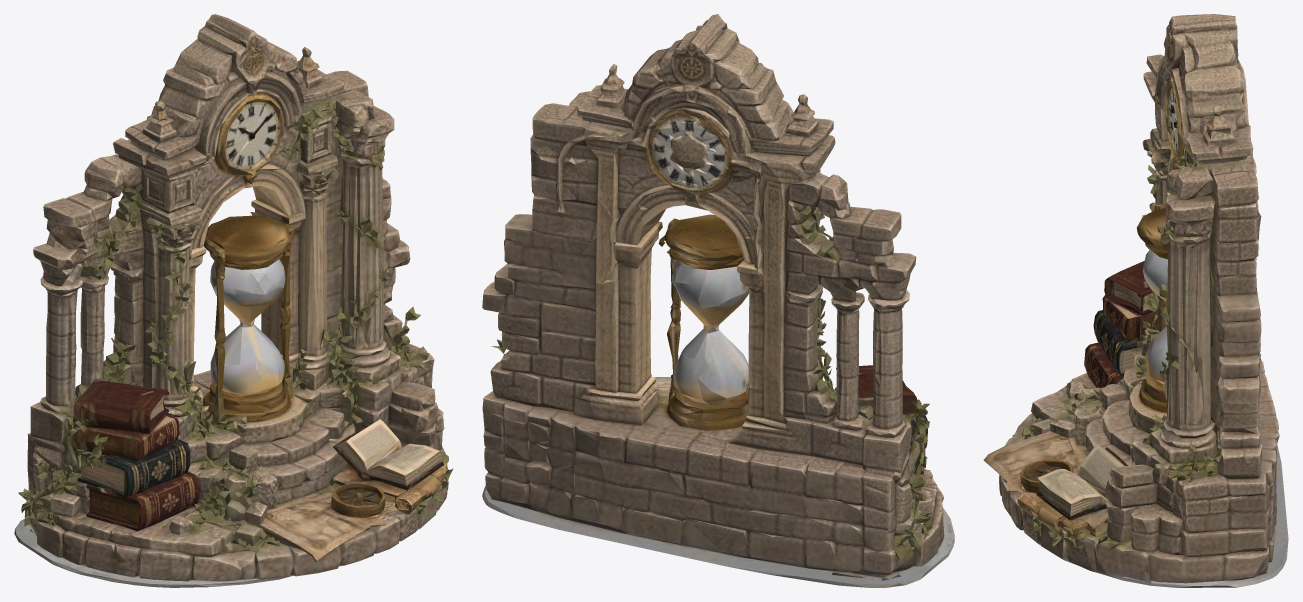
File: island_history.glb
The picture shows the model from 3 angles, left to right: view 1: azimuth 30°, elevation 25°; view 2: azimuth 150°, elevation 25°; view 3: azimuth 270°, elevation 25°; orthographic projection. The views are drawn at different scales.
Visible parts, largest first — view 1: Mesh_0; view 2: Mesh_0; view 3: Mesh_0.
Part boxes in pixels (bbox=[...]): Mesh_0: bbox=[14, 14, 453, 587]; Mesh_0: bbox=[482, 14, 954, 587]; Mesh_0: bbox=[983, 14, 1288, 587].
Bounding box in the file's own units: 1.71 × 1.9 × 1.09.
1 material, 1 textured.
